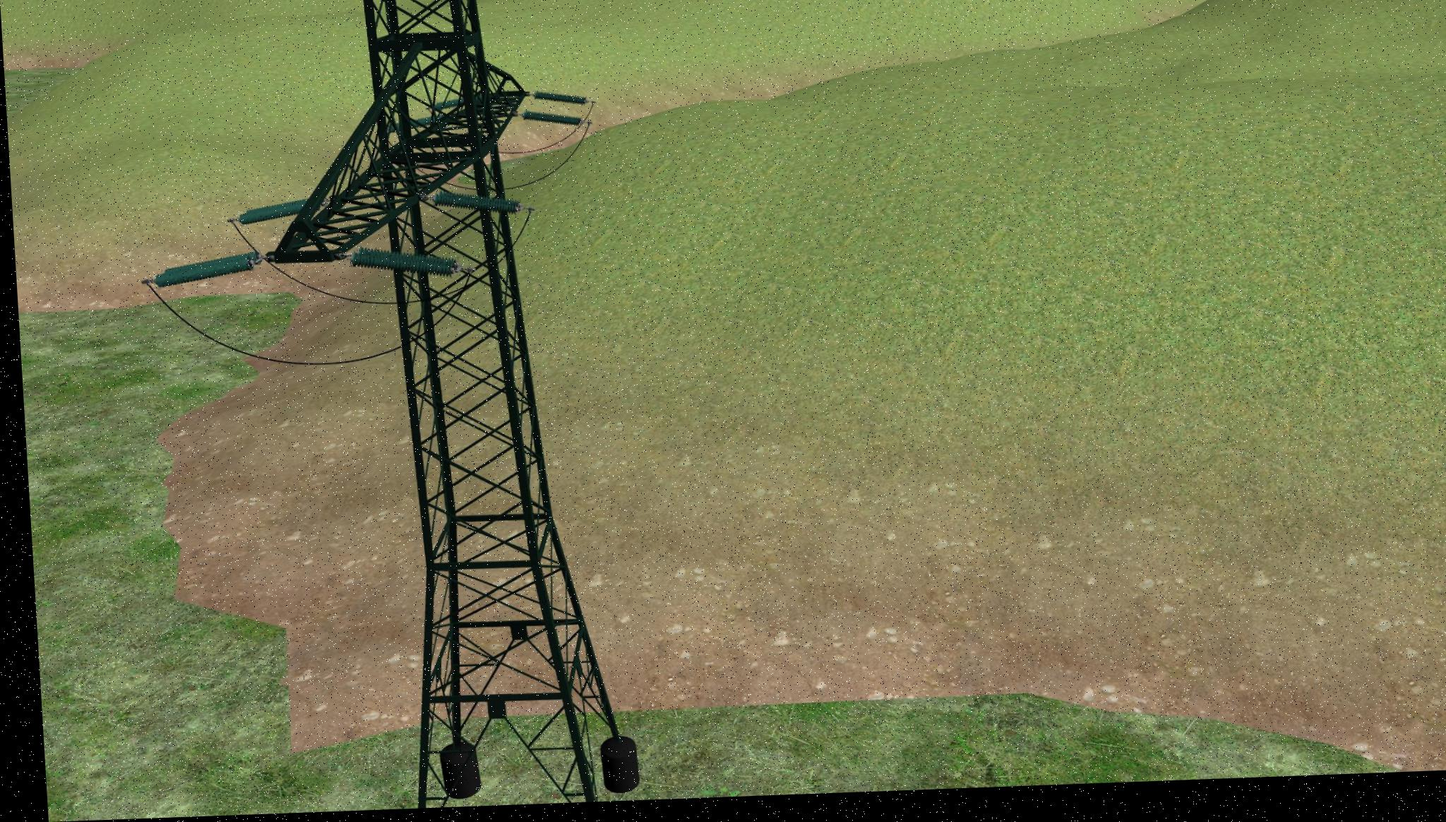tower: (270, 0, 626, 812)
